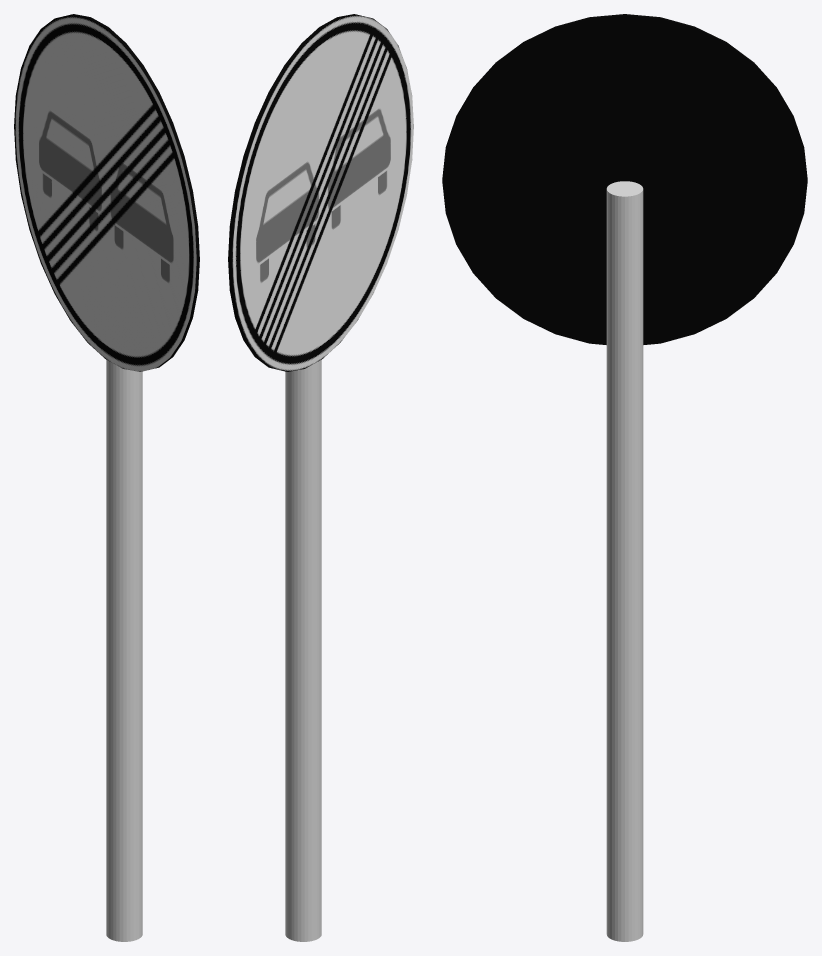
Rendered from no_overtaking_end_sign.dae.
3 views of the same model, side by side, from view 1: azimuth 30°, elevation 25°; view 2: azimuth 150°, elevation 25°; view 3: azimuth 270°, elevation 25° (orthographic).
Parts seen in each view (by area): view 1: Circle, Cylinder; view 2: Circle, Cylinder; view 3: Circle, Cylinder.
Part boxes in pixels (box(x1,y1,x2,y2)): Circle: box(14, 14, 199, 371); Cylinder: box(106, 360, 142, 941); Circle: box(228, 14, 413, 371); Cylinder: box(285, 360, 321, 941); Circle: box(442, 14, 807, 344); Cylinder: box(606, 181, 643, 941).
Bounding box in the file's own units: 0.011 × 0.1 × 0.275.
Materials: 3 (2 with a texture image).
